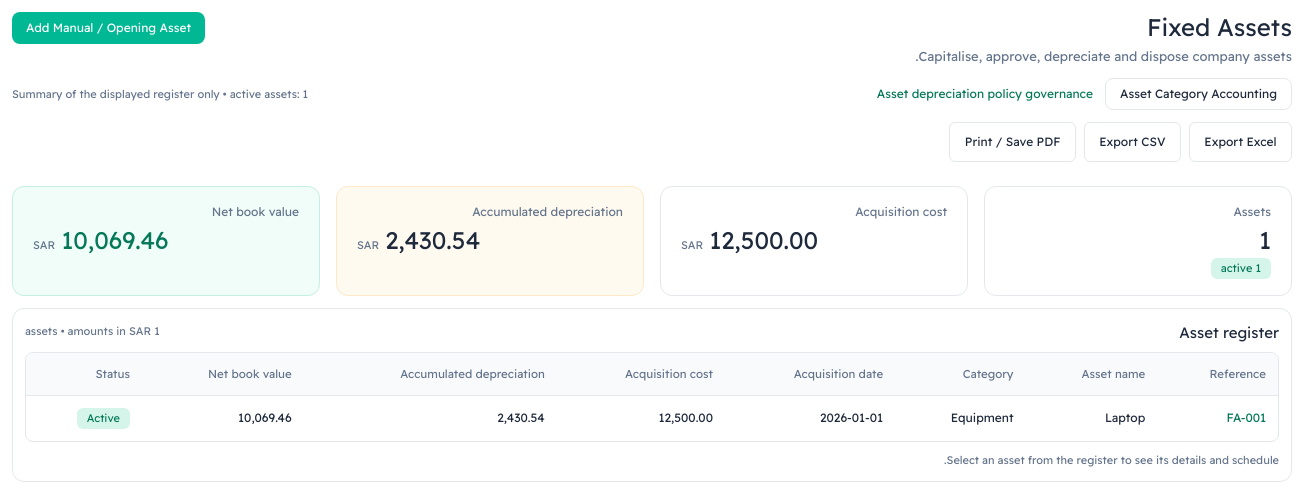
Test: Fixed Assets module sub-views › opens the category accounting sub-view with its own save action
Expected: the text "FA-001" is shown, [1157,395,1278,441]
Click the button "Asset Category Accounting": (1198, 94) [1105,78,1292,110]
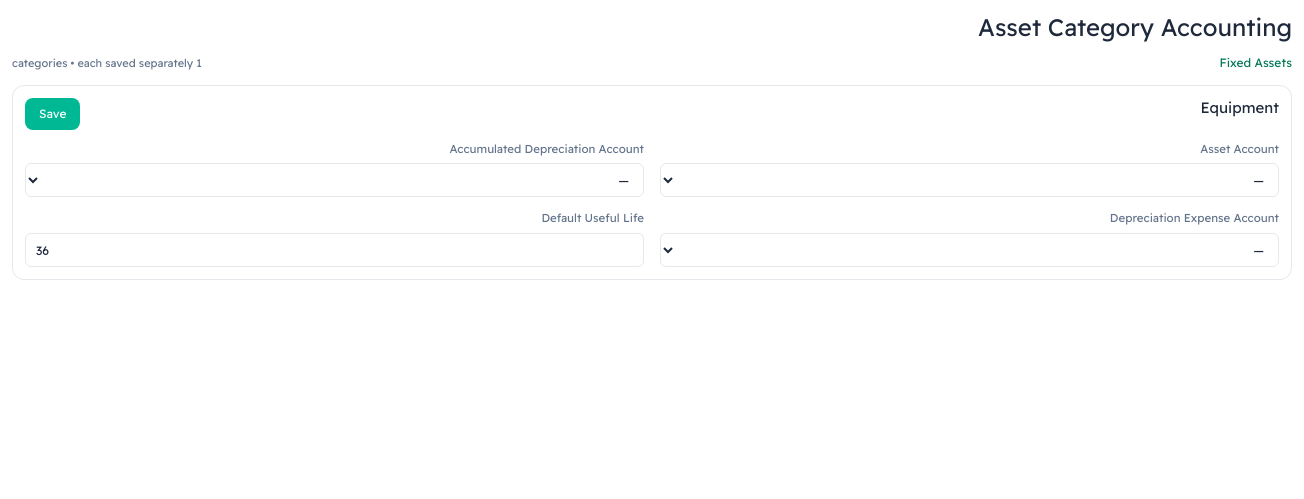
Expected: the heading "Asset Category Accounting" is shown, [978,12,1292,42]
Expected: the button "Save" is shown, [25,98,80,130]
